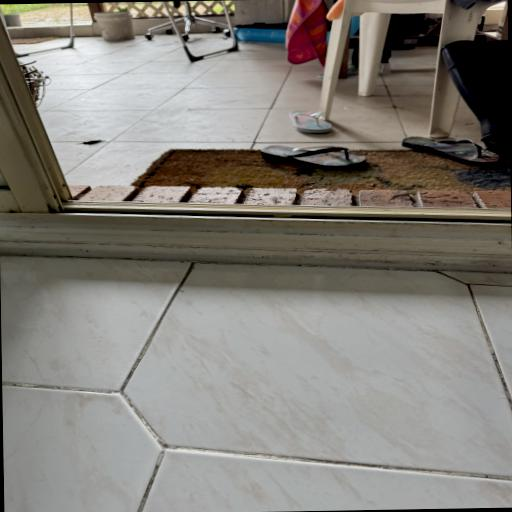step: (1, 201, 511, 272)
